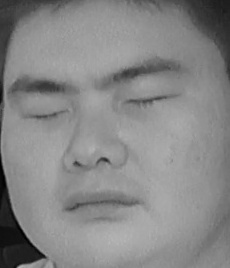blink: (123, 83, 179, 118), (19, 97, 71, 129)
mouth: (60, 180, 143, 225)
